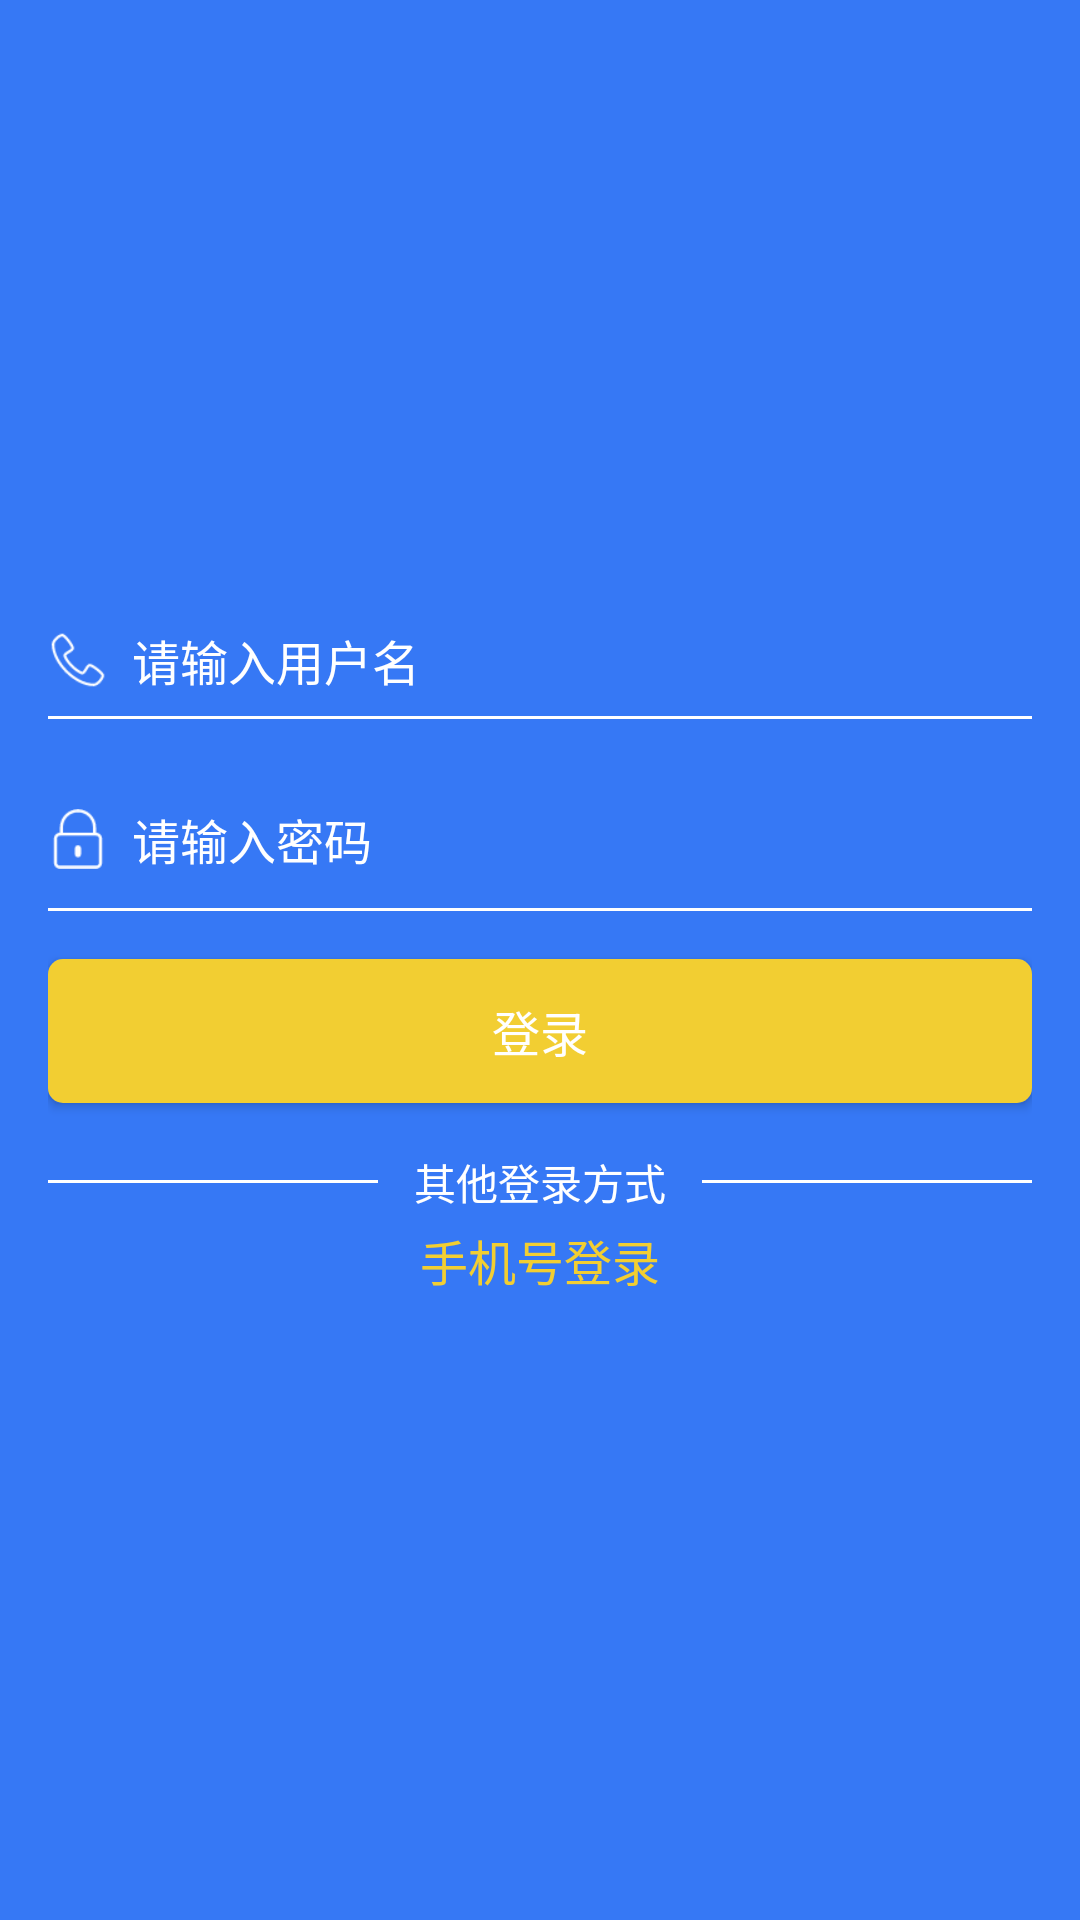

Where to tap for icons on this 1080px x 1920px app screen, as [x,y]:
password: [78,839]
phone: [78,660]
